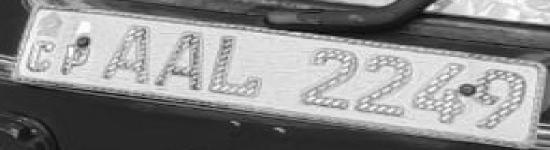2: (299, 42, 360, 114), (356, 52, 414, 117)
4: (414, 59, 468, 126)
9: (473, 67, 530, 132)
A: (102, 20, 154, 88), (156, 26, 207, 92)
C: (25, 40, 60, 76), (59, 40, 93, 77)
L: (208, 33, 267, 99)
